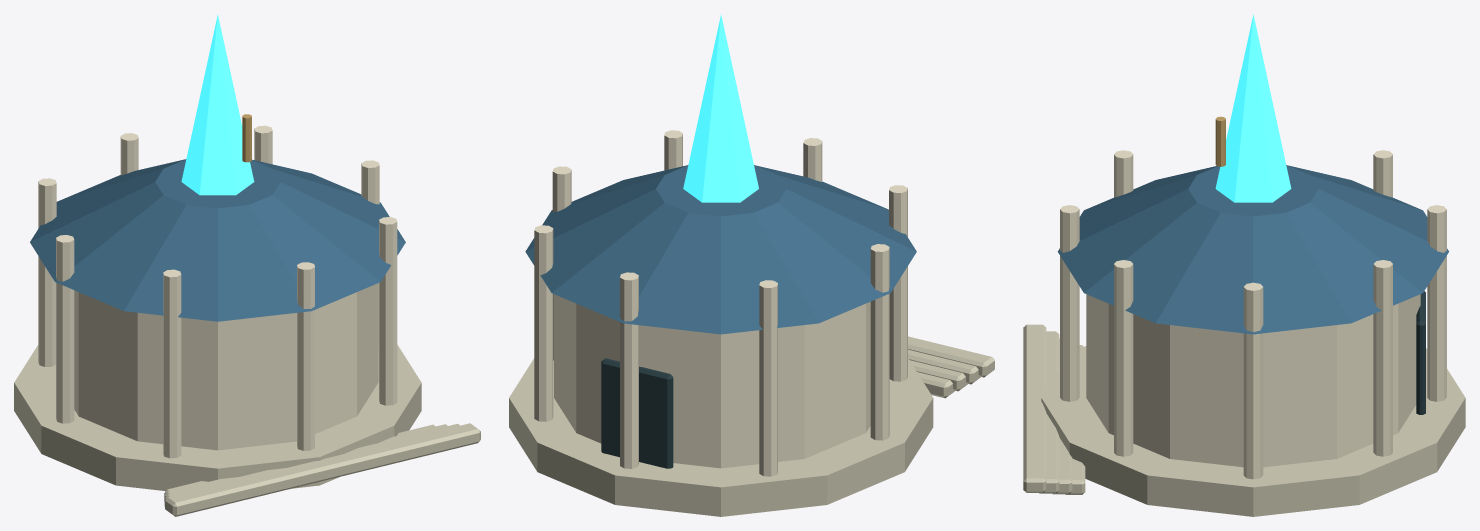
The model's file is level_30.glb.
3 views of the same model, side by side, from view 1: azimuth 30°, elevation 25°; view 2: azimuth 150°, elevation 25°; view 3: azimuth 270°, elevation 25° (orthographic). The views are drawn at different scales.
Visible parts, largest first — view 1: mage_guild — level 30; view 2: mage_guild — level 30; view 3: mage_guild — level 30.
Boxes of the visible parts, box(x1,y1,x2,y2) form: mage_guild — level 30: box(14, 14, 480, 516); mage_guild — level 30: box(509, 14, 994, 516); mage_guild — level 30: box(1023, 14, 1465, 516).
Bounding box in the file's own units: 5.2 × 5.59 × 5.42.
